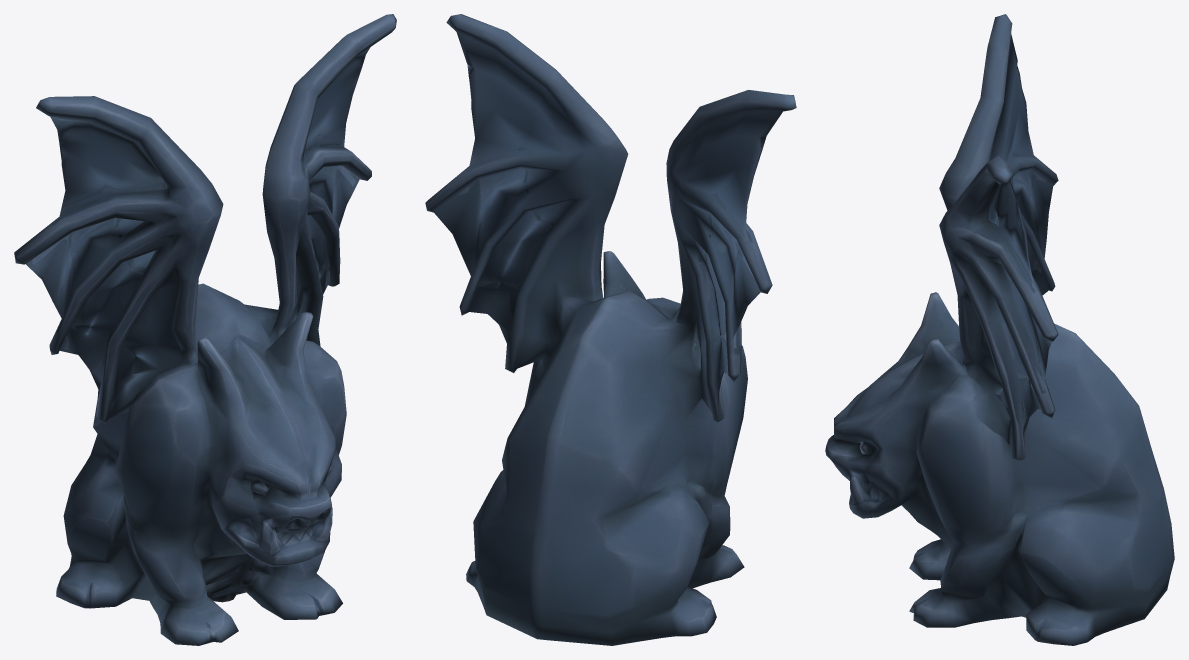
The model's file is DragonGargoyle.fbx.
3 renders of one model, left to right at view 1: azimuth 30°, elevation 25°; view 2: azimuth 150°, elevation 25°; view 3: azimuth 270°, elevation 25°, orthographic. The views are drawn at different scales.
Parts seen in each view (by area): view 1: DragonGargoyle; view 2: DragonGargoyle; view 3: DragonGargoyle.
Boxes of the visible parts, x1=… form: DragonGargoyle: x1=14, y1=14, x2=396, y2=645; DragonGargoyle: x1=425, y1=14, x2=796, y2=645; DragonGargoyle: x1=825, y1=14, x2=1174, y2=645.
Bounding box in the file's own units: 0.7012 × 0.998 × 0.6348.
1 material, 1 textured.
